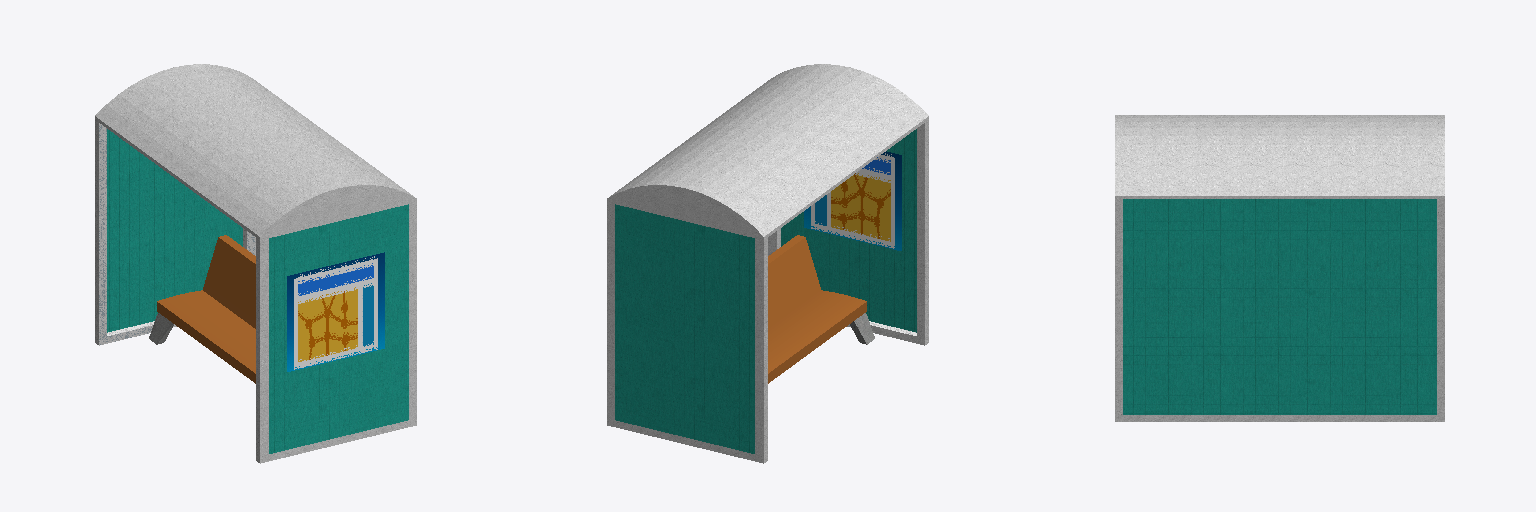
3 renders of one model, left to right at view 1: azimuth 30°, elevation 25°; view 2: azimuth 150°, elevation 25°; view 3: azimuth 270°, elevation 25°, orthographic.
Parts seen in each view (by area): view 1: Mesh1 Model, Mesh2 Model; view 2: Mesh1 Model, Mesh2 Model; view 3: Mesh1 Model.
Boxes of the visible parts, box(x1,y1,x2,y2) form: Mesh1 Model: box(95, 64, 416, 463); Mesh2 Model: box(149, 235, 255, 383); Mesh1 Model: box(607, 64, 928, 463); Mesh2 Model: box(768, 235, 874, 383); Mesh1 Model: box(1115, 115, 1444, 421).
Bounding box in the file's own units: 1.84 × 2.87 × 3.35.
7 materials, 4 textured.